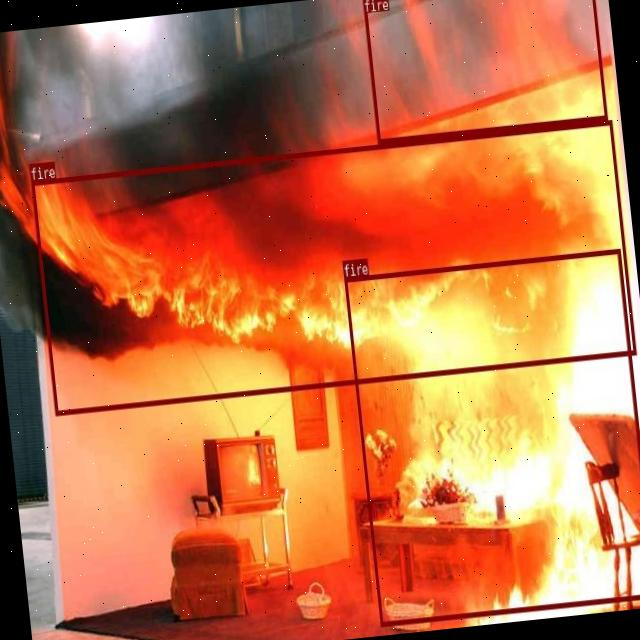fire: (31, 120, 636, 414), (342, 247, 640, 625), (361, 0, 606, 143)
